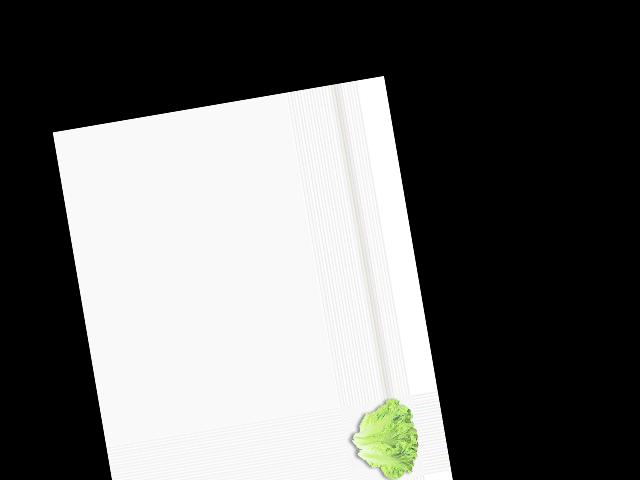lettuce: (344, 397, 423, 480)
